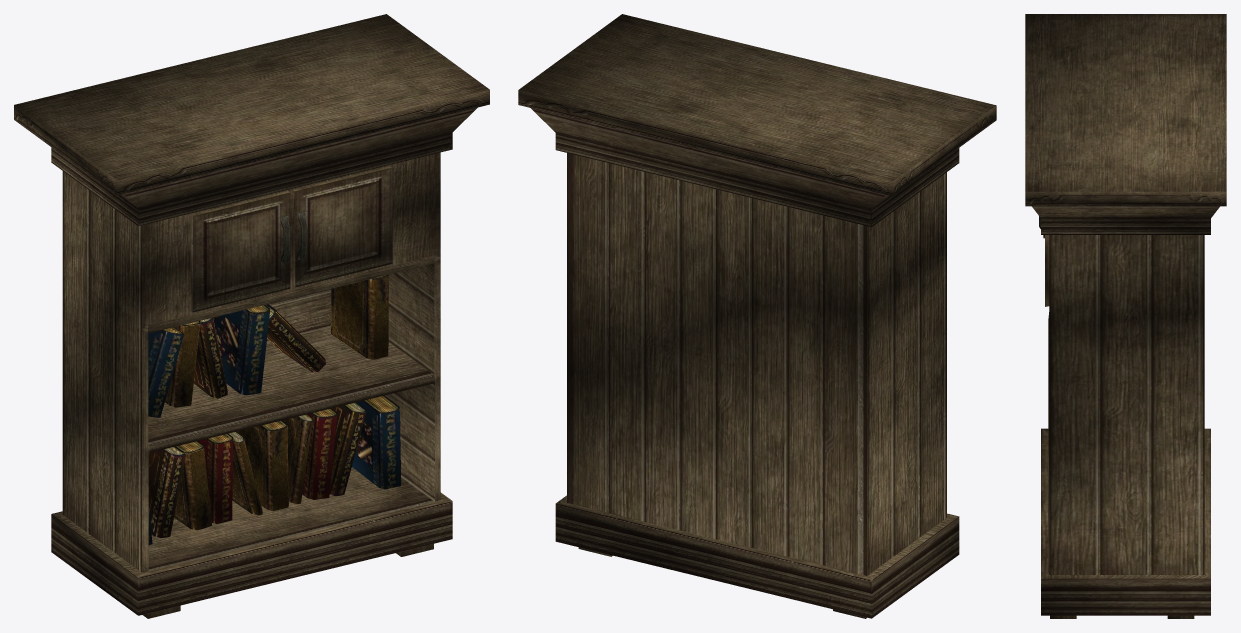
Rendered from GS_VOB_BOOKCASE_BROWN_02_KOZA.glb.
3 views of the same model, side by side, from view 1: azimuth 30°, elevation 25°; view 2: azimuth 150°, elevation 25°; view 3: azimuth 270°, elevation 25° (orthographic). The views are drawn at different scales.
Visible parts, largest first — view 1: Mesh; view 2: Mesh; view 3: Mesh.
Boxes of the visible parts, x1,y1,x2,y2 form: Mesh: (14, 14, 489, 618); Mesh: (518, 14, 996, 618); Mesh: (1025, 14, 1226, 618).
Size of the model in its own units: 1.41 by 1.66 by 0.6779.
4 materials, 4 textured.
